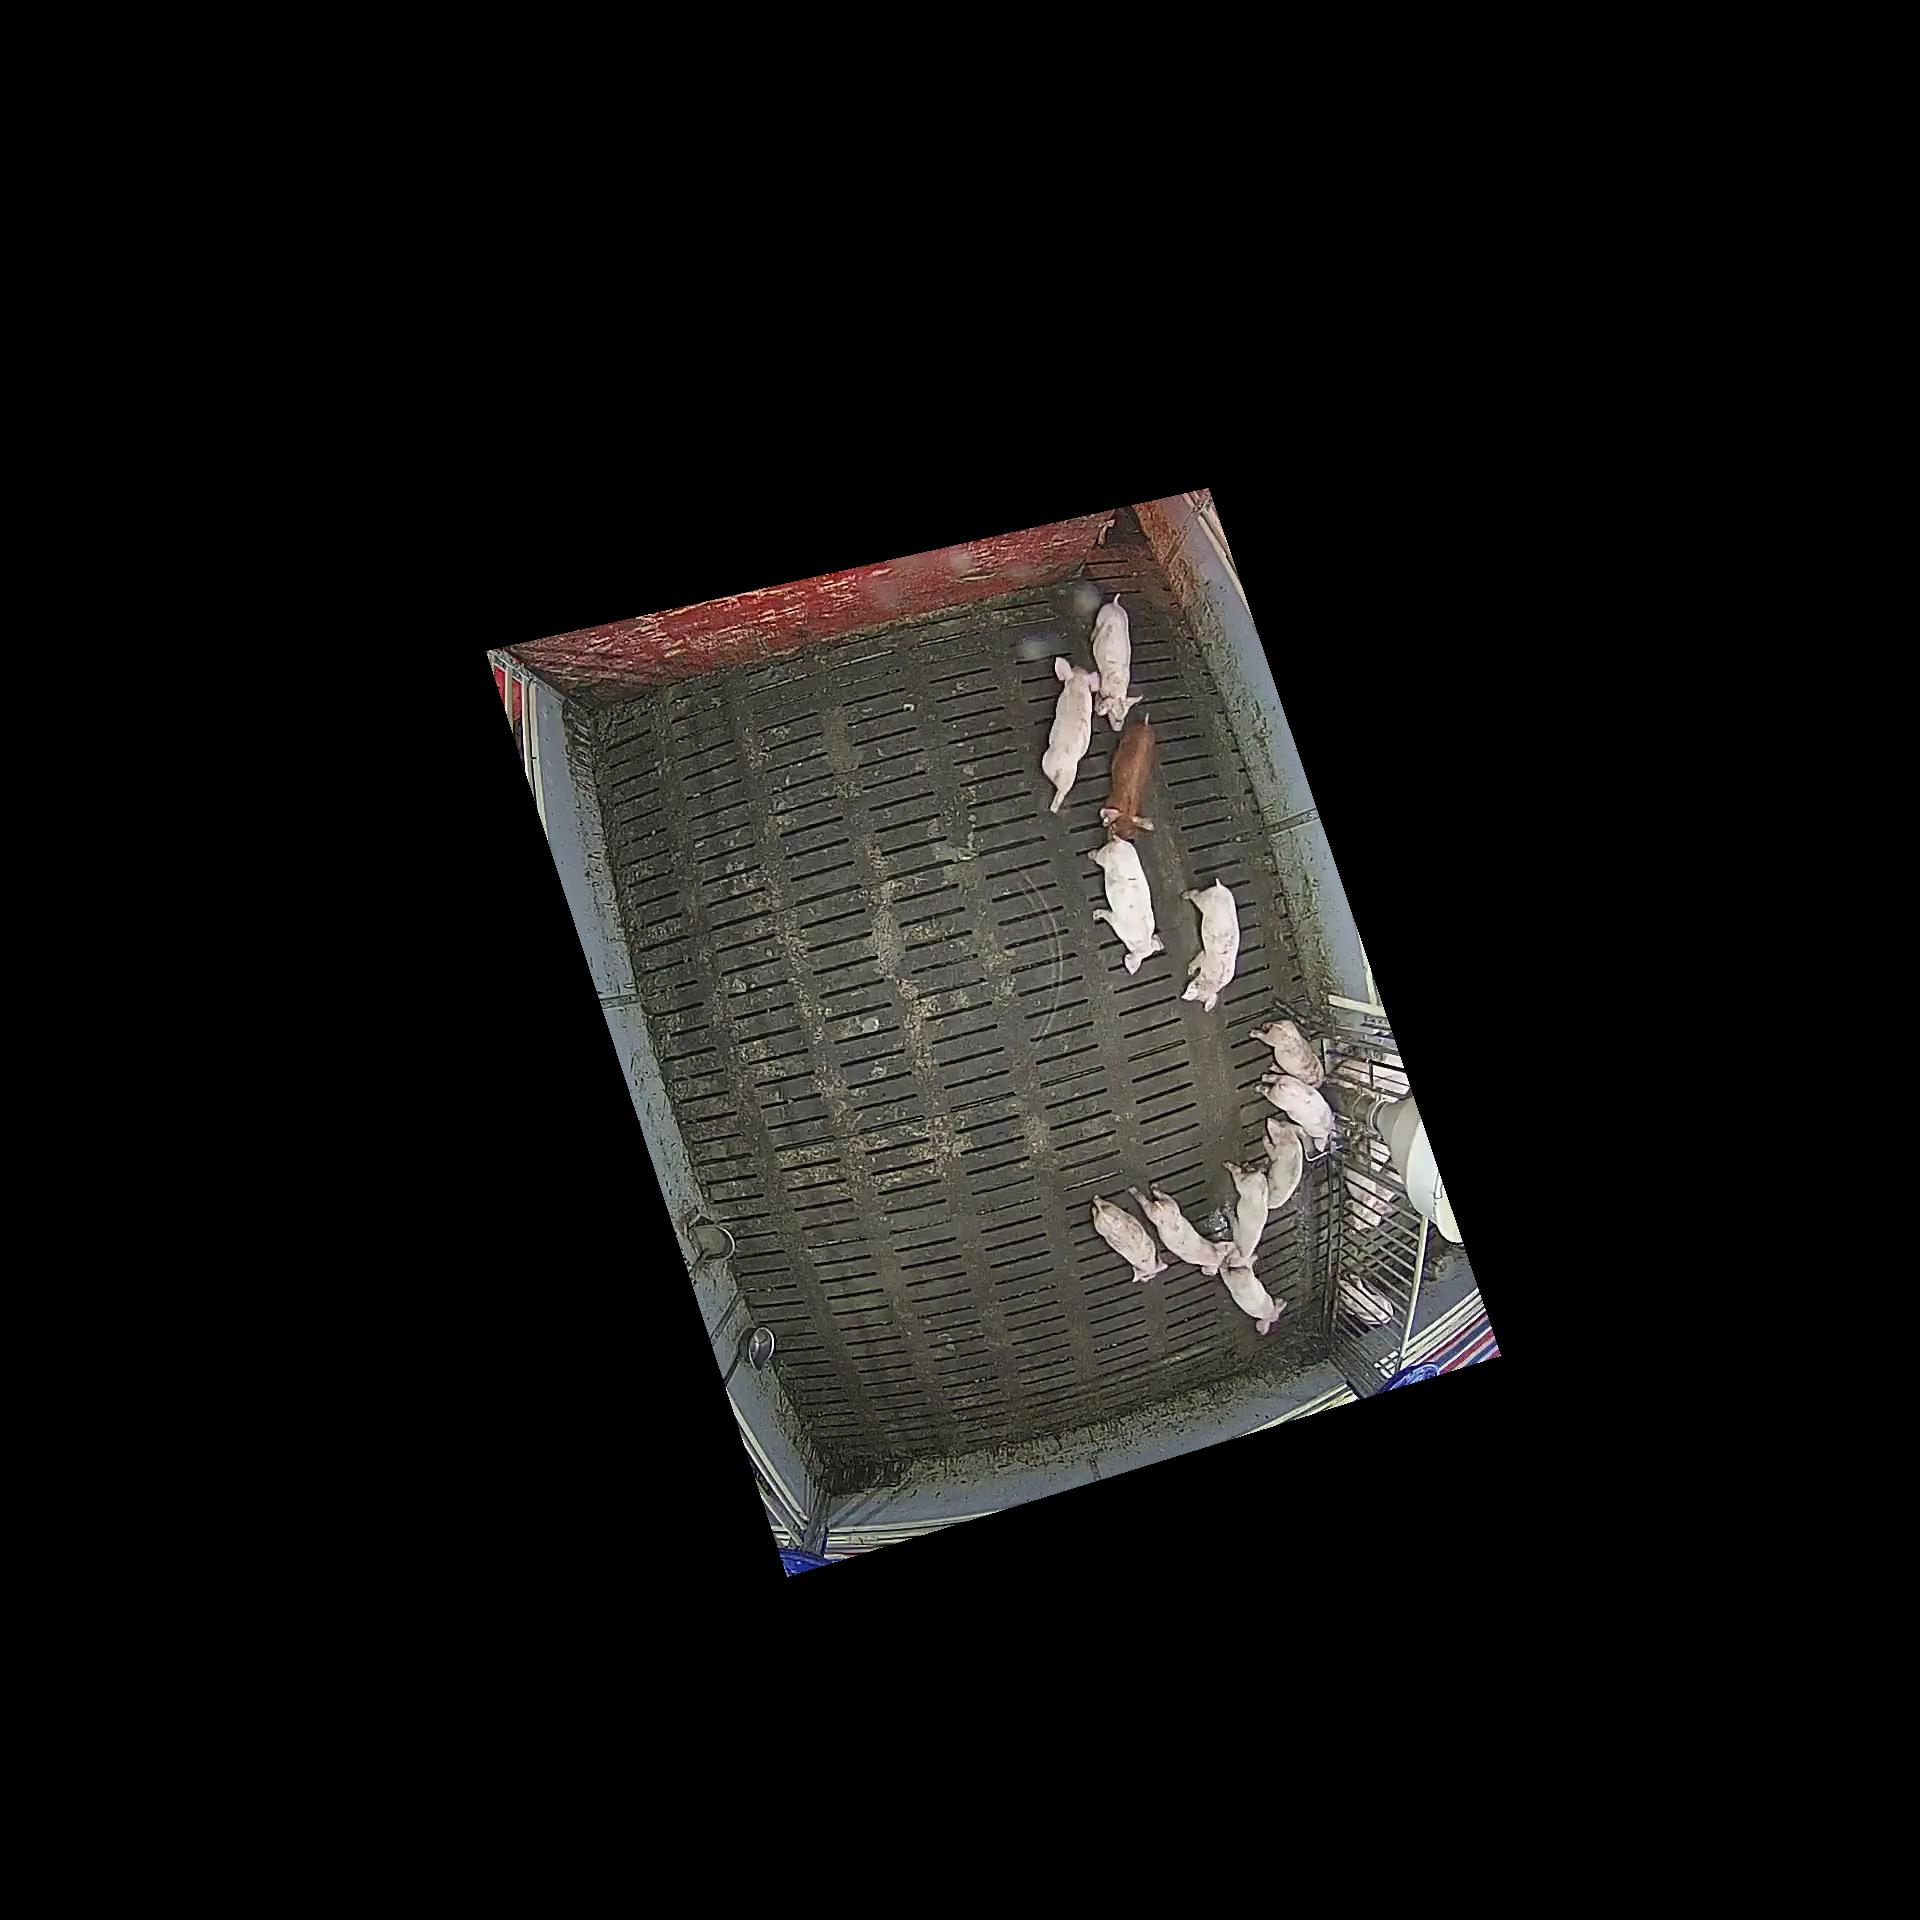pig: (1087, 835, 1166, 976), (1127, 1182, 1236, 1275), (1041, 658, 1099, 812), (1180, 879, 1240, 1013), (1088, 594, 1145, 731), (1101, 712, 1155, 840), (1090, 1196, 1167, 1282), (1254, 1074, 1335, 1138), (1222, 1160, 1268, 1268), (1250, 1022, 1326, 1085), (1220, 1268, 1289, 1331), (1262, 1116, 1305, 1208)
